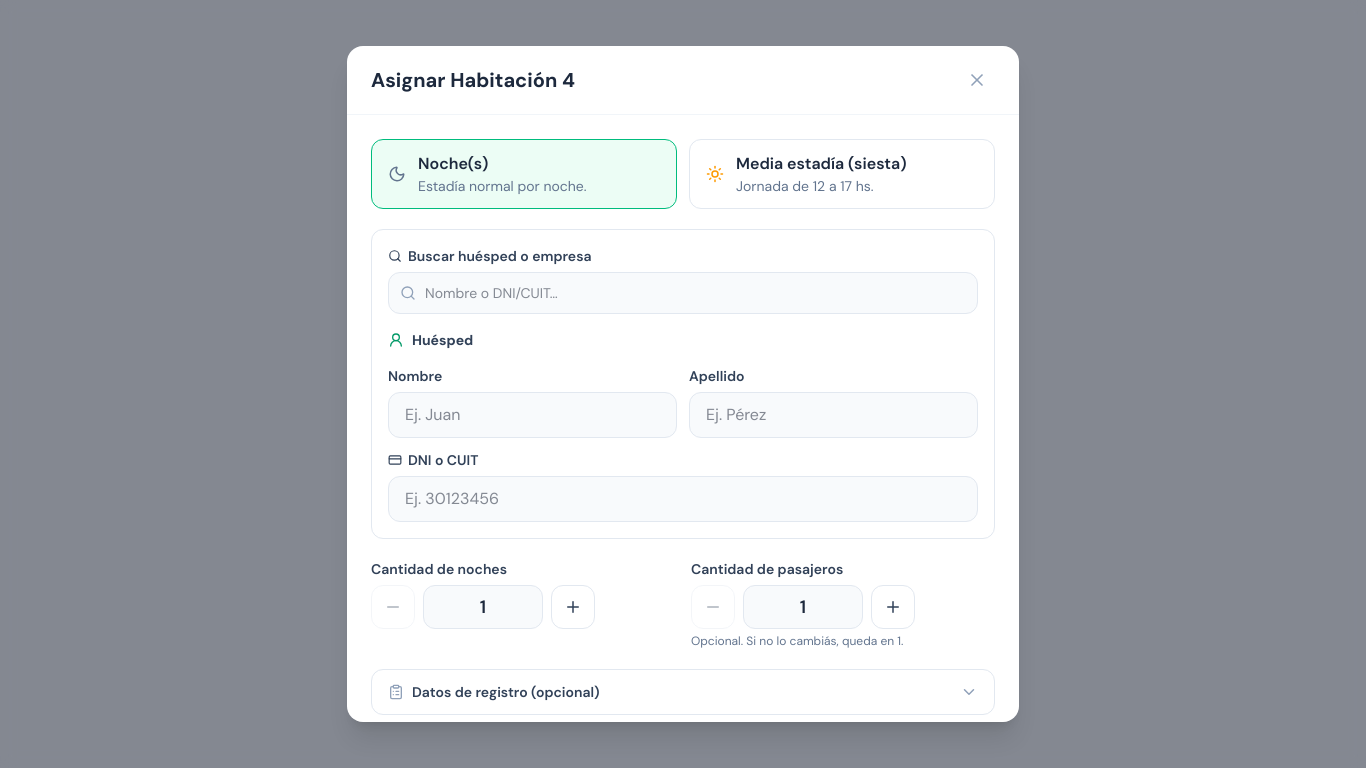
Scenario: WalkInModal: el botón dice qué falta › en modo empresa sin pasajero, el foco va al nombre del pasajero
Type "Empresa" into the field labelled "Buscar huésped o empresa" at coordinates (683, 293), box [388,272,978,314]
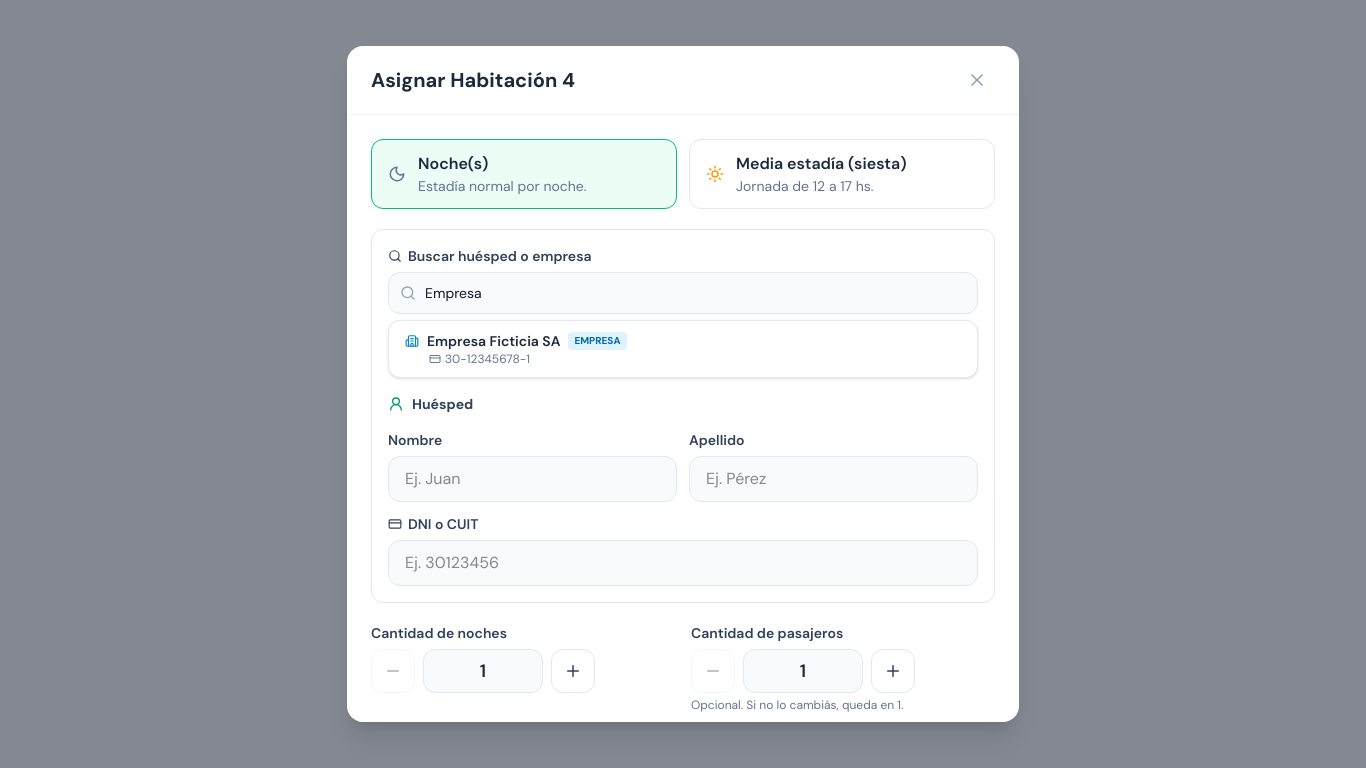
Click the text "Empresa Ficticia SA" at coordinates (494, 341), box [427,331,560,351]
(page scrolled)
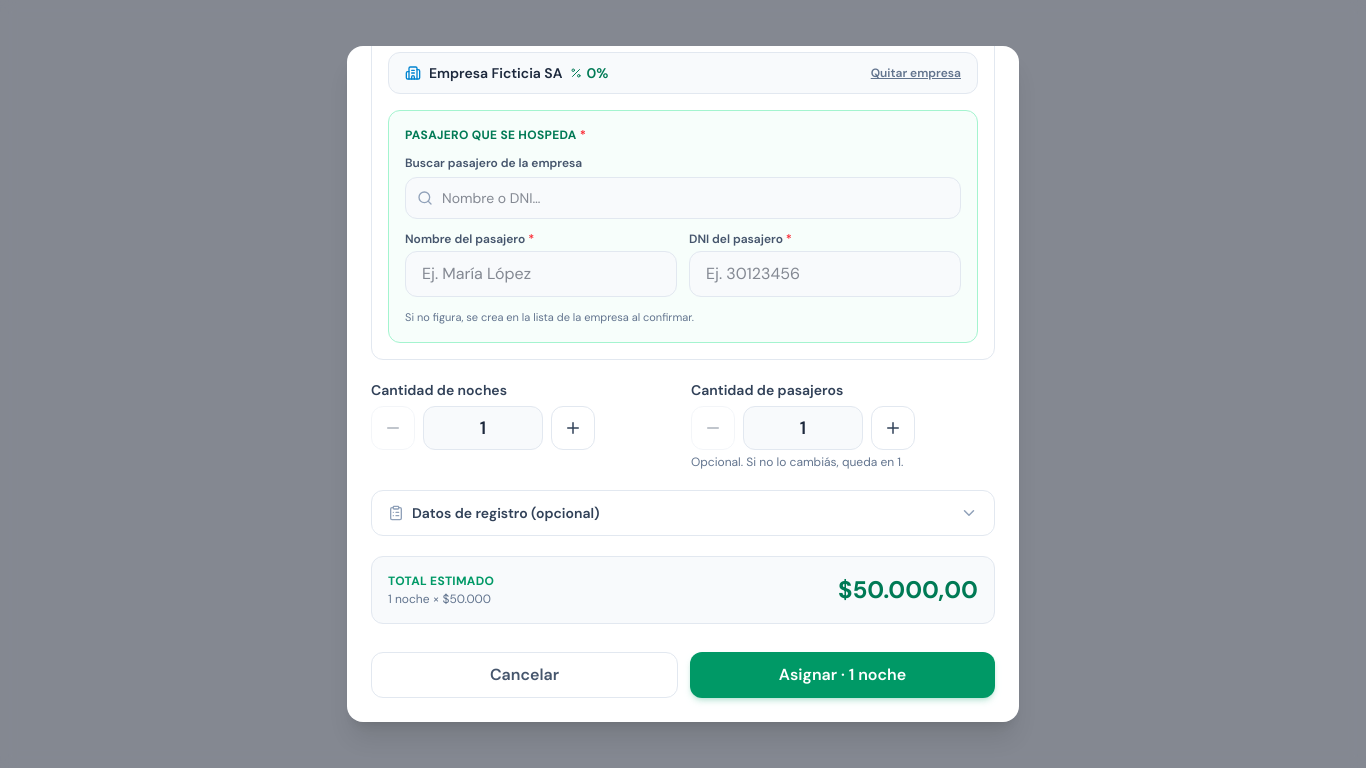
Click the submit button at coordinates (842, 675), box [690,652,995,698]
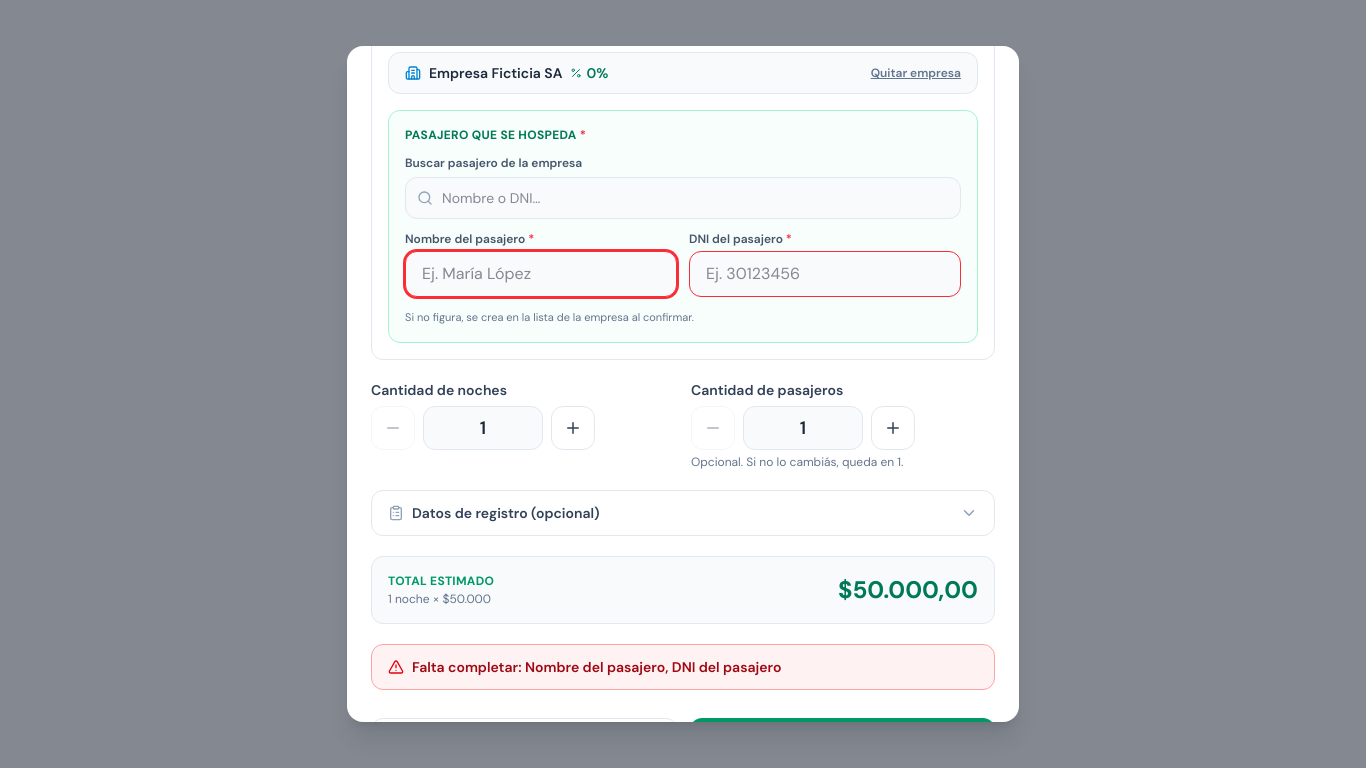
expect the text "Falta completar: Nombre del pasajero, DNI del pasajero" is shown: met, box [412,657,781,677]
